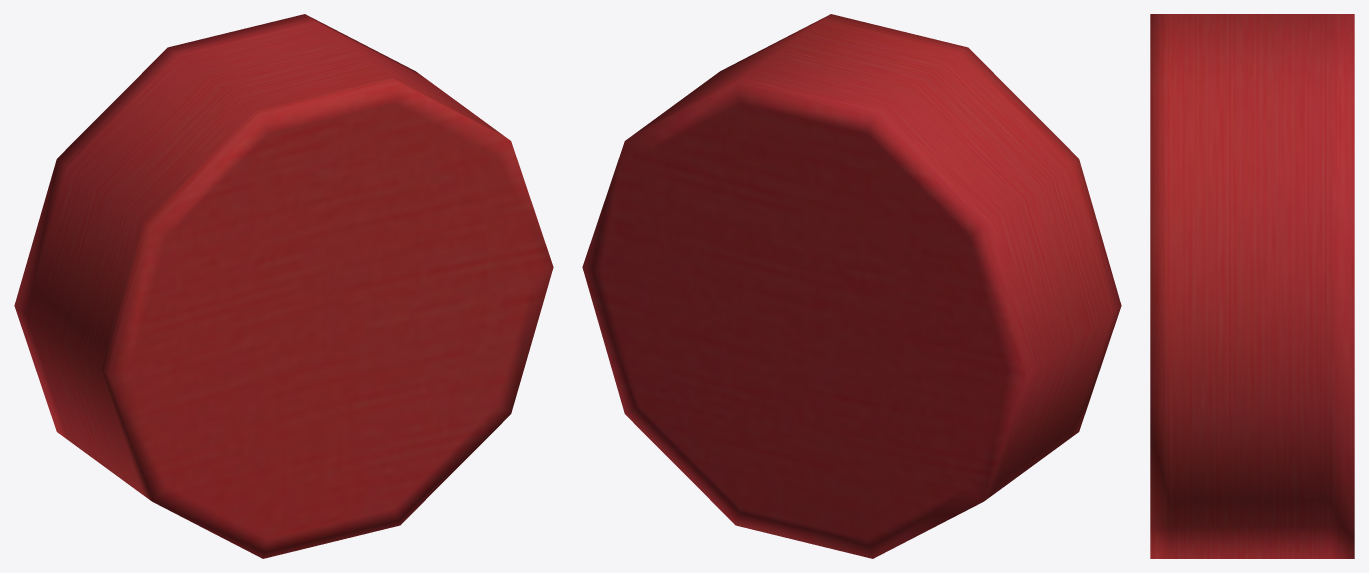
The model's file is Chip_Red.gltf.
3 views of the same model, side by side, from view 1: azimuth 30°, elevation 25°; view 2: azimuth 150°, elevation 25°; view 3: azimuth 270°, elevation 25° (orthographic). The views are drawn at different scales.
Visible parts, largest first — view 1: RedChipSingle; view 2: RedChipSingle; view 3: RedChipSingle.
Boxes of the visible parts, x1,y1,x2,y2 form: RedChipSingle: [14, 14, 553, 558]; RedChipSingle: [582, 14, 1121, 558]; RedChipSingle: [1150, 14, 1354, 558].
Size of the model in its own units: 0.9232 by 0.878 by 0.3434.
1 material, 1 textured.
